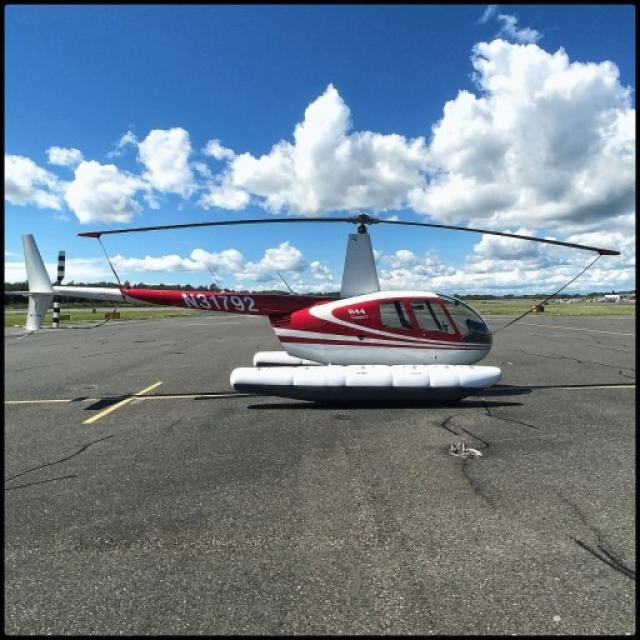CIV_HELO: (10, 212, 508, 406)
